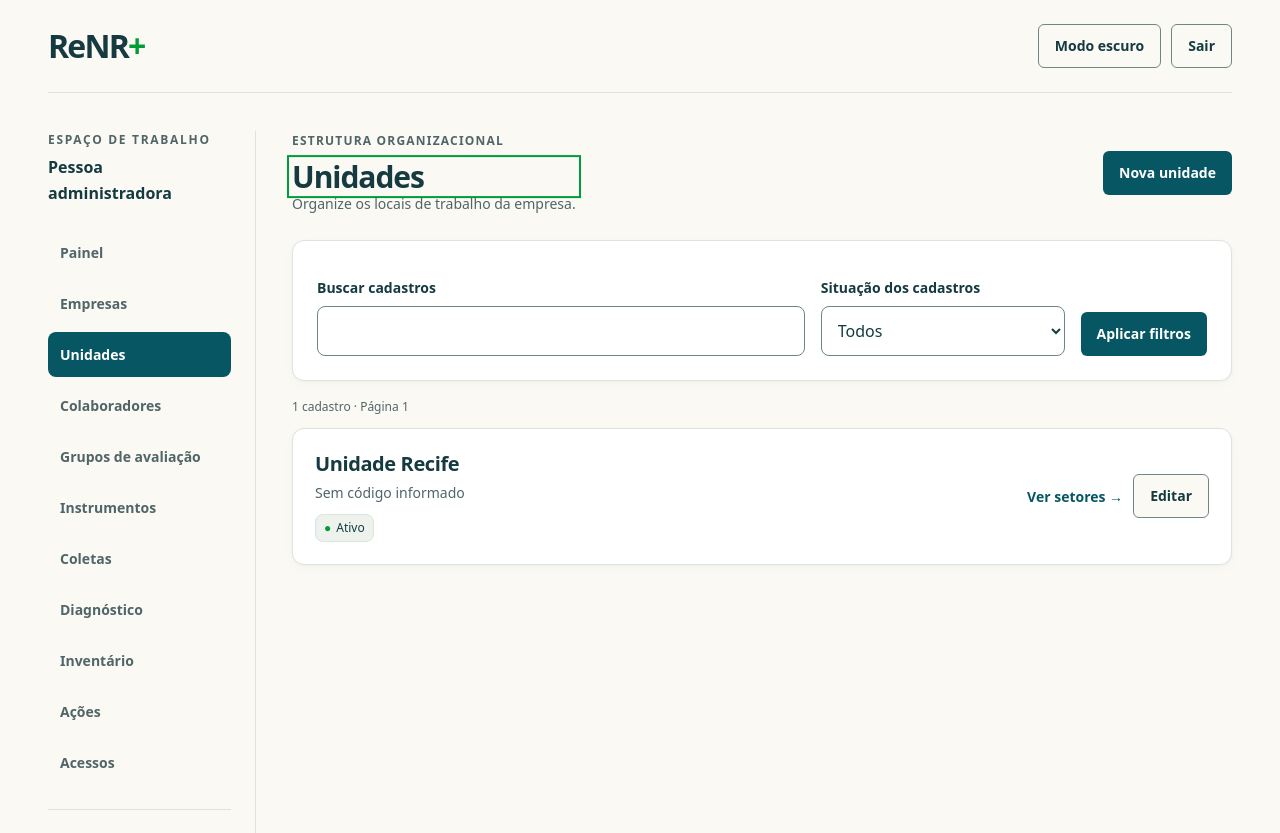
acesso e estrutura organizacional › limpa rascunho e ignora lista antiga ao trocar a empresa ativa
Click the button "Nova unidade" at (1168, 173), box [1103,151,1232,195]
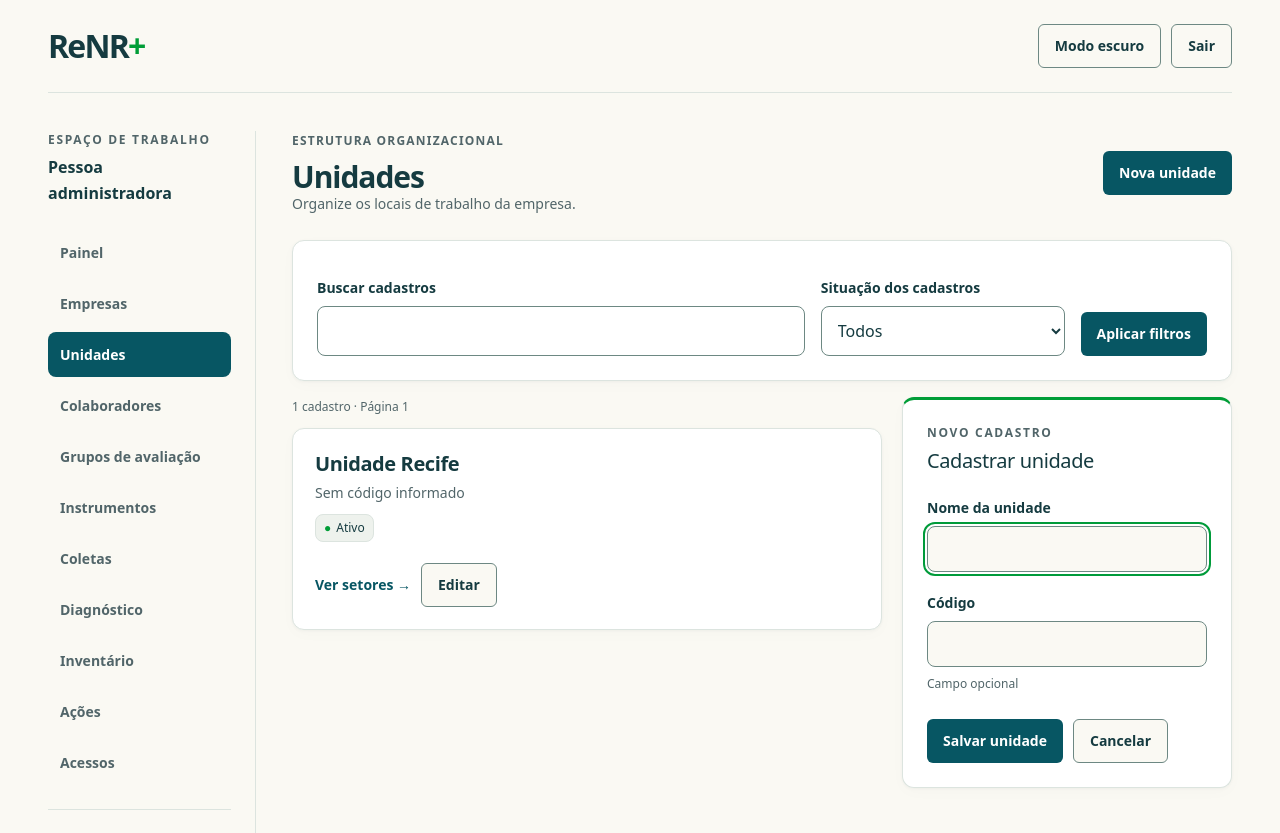
Type "Rascunho anterior" into the field labelled "Nome da unidade" at (1067, 549), box [927,526,1207,572]
(page scrolled)
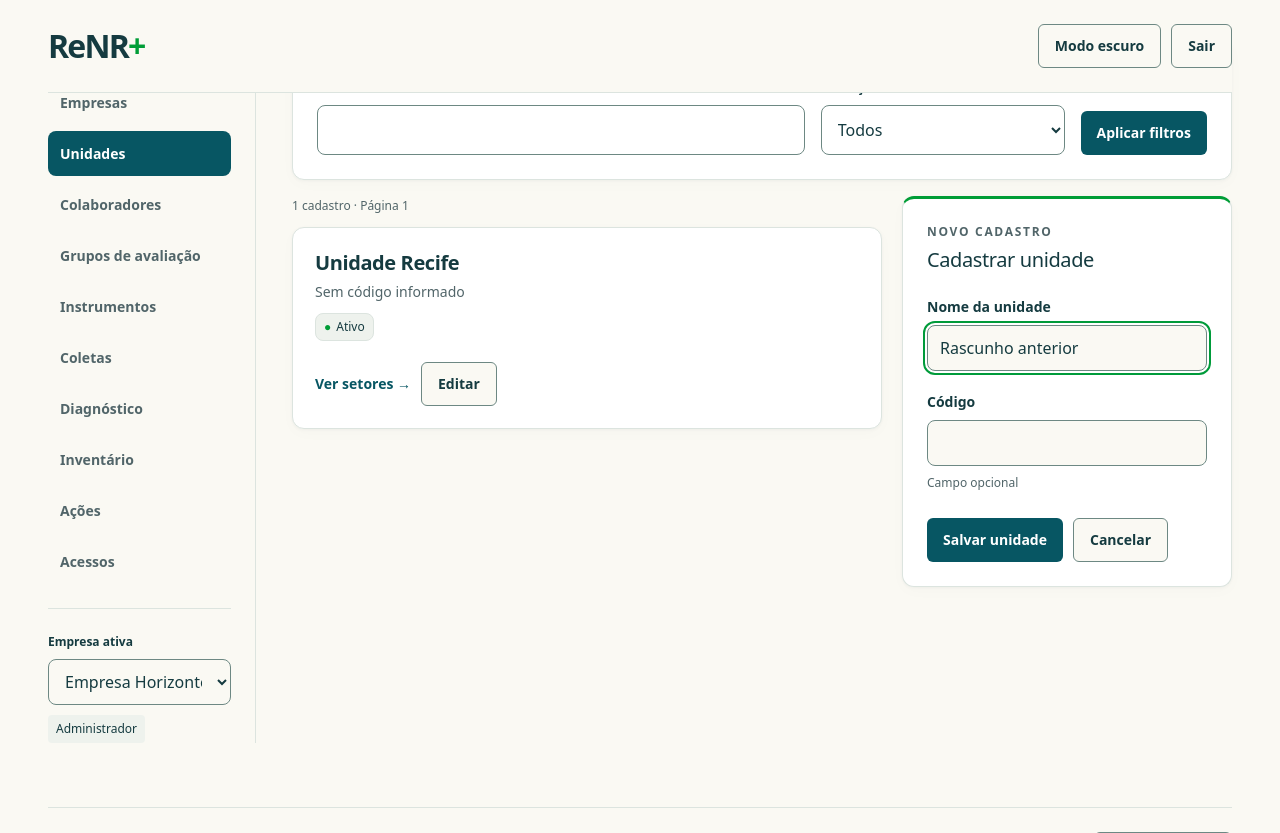
Select "Outra empresa" in the dropdown labelled "Empresa ativa" at (140, 682), box [48,659,231,705]
(page scrolled)
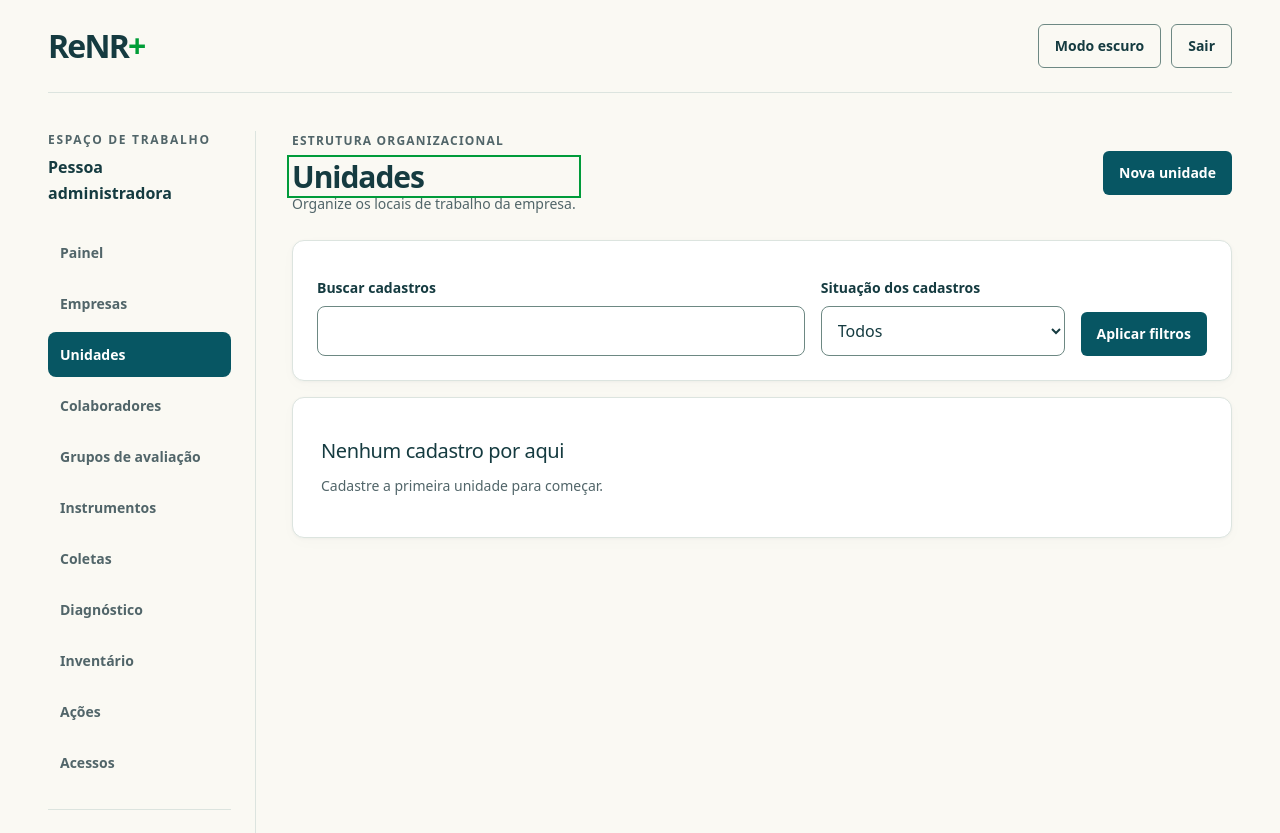
expect the heading "Nenhum cadastro por aqui" is shown: met, box [321,437,564,464]
expect the label labelled "Nome da unidade" is gone: met
expect the heading "Unidade Recife" is gone: met
